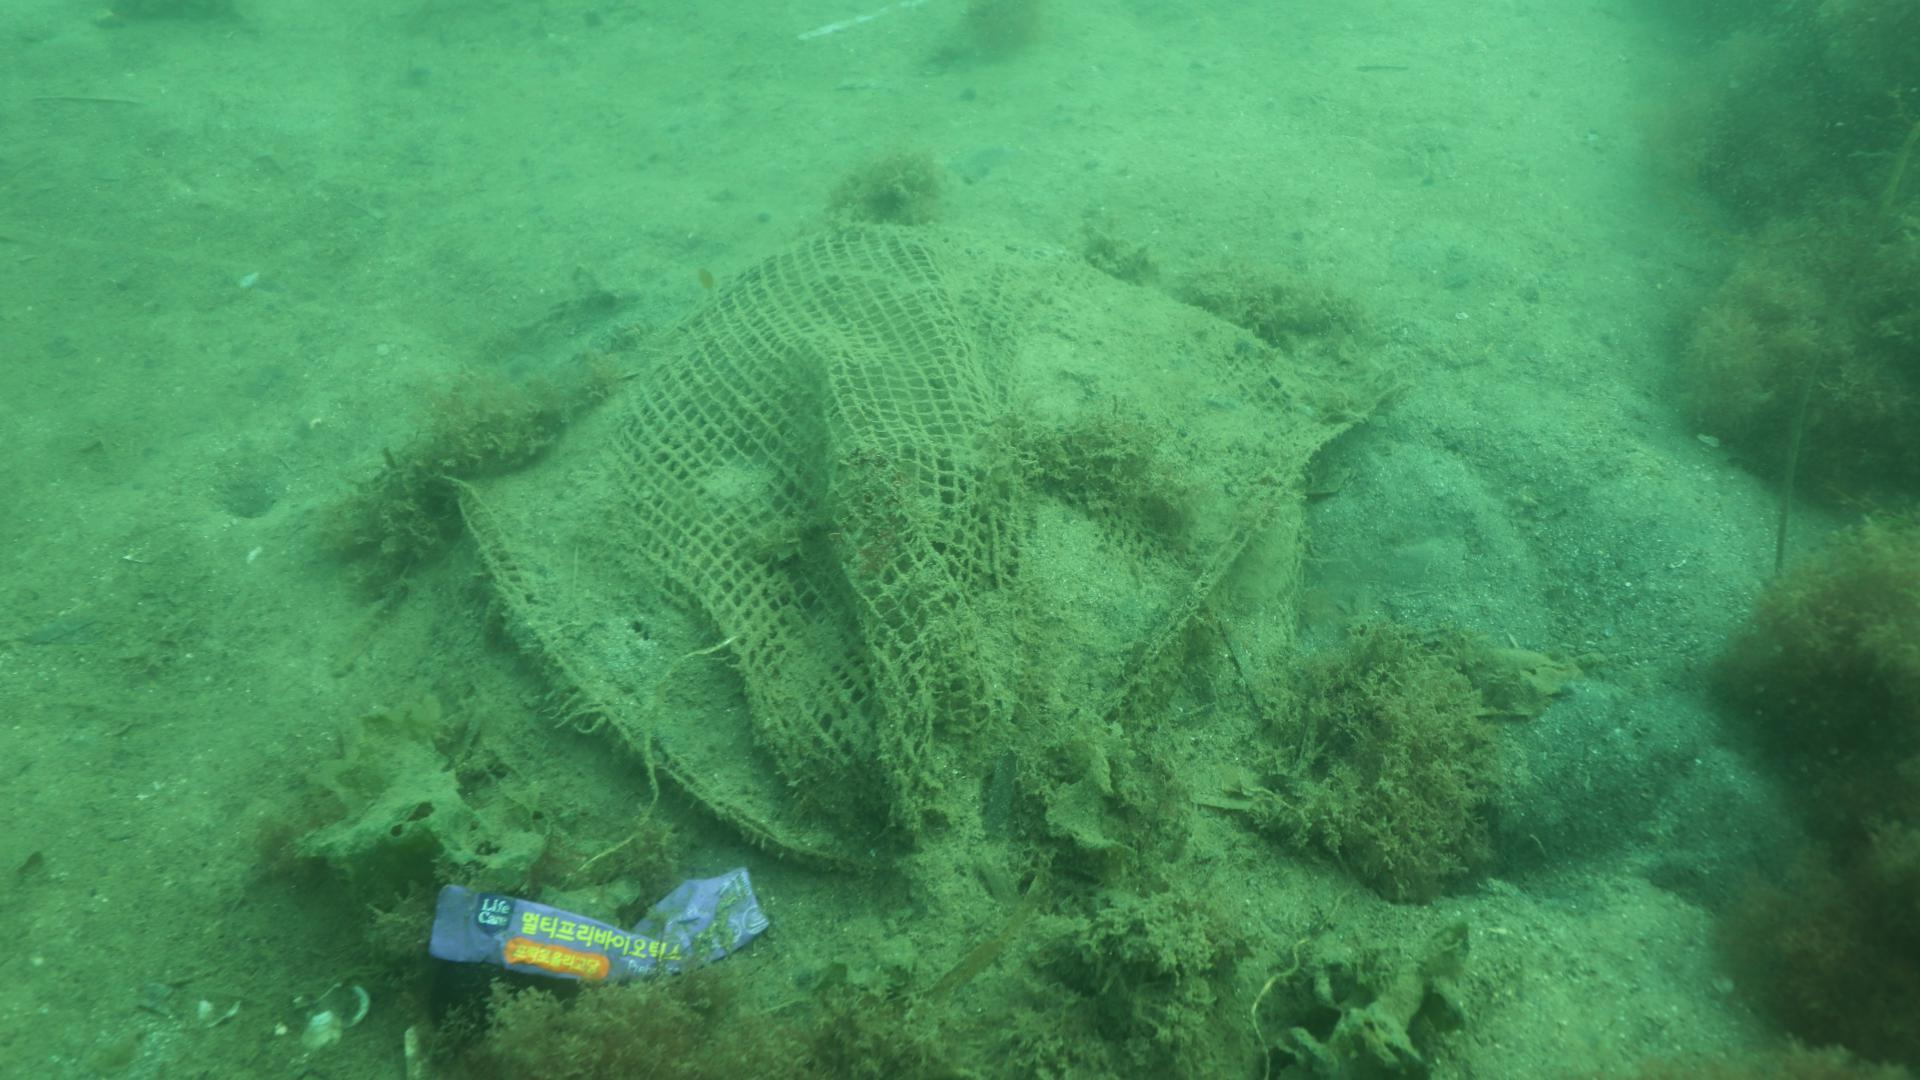fish net: (452, 219, 1381, 857)
